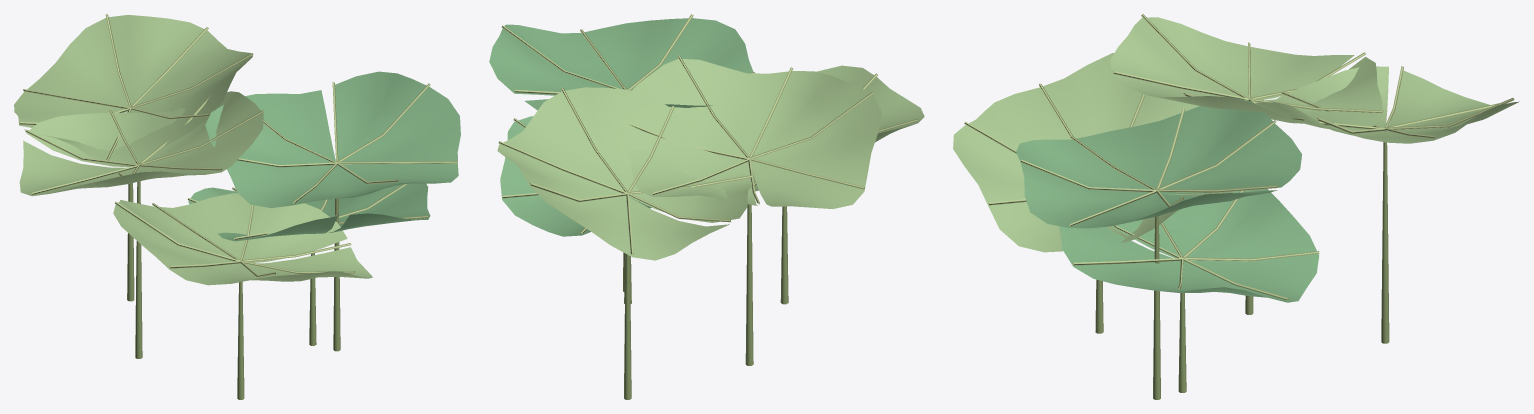
The model's file is study_lotus_1.glb.
The picture shows the model from 3 angles, left to right: view 1: azimuth 30°, elevation 25°; view 2: azimuth 150°, elevation 25°; view 3: azimuth 270°, elevation 25°; orthographic projection. The views are drawn at different scales.
Visible parts, largest first — view 1: study_lotus_1_LakeLeafLight, study_lotus_1_LakeLeaf, study_lotus_1_LakeVein, study_lotus_1_LakeReed; view 2: study_lotus_1_LakeLeafLight, study_lotus_1_LakeLeaf, study_lotus_1_LakeVein, study_lotus_1_LakeReed; view 3: study_lotus_1_LakeLeaf, study_lotus_1_LakeLeafLight, study_lotus_1_LakeVein, study_lotus_1_LakeReed.
Part boxes in pixels (bbox=[...]): study_lotus_1_LakeLeafLight: bbox=[14, 15, 372, 285]; study_lotus_1_LakeLeaf: bbox=[188, 71, 460, 241]; study_lotus_1_LakeVein: bbox=[18, 14, 457, 277]; study_lotus_1_LakeReed: bbox=[127, 166, 340, 399]; study_lotus_1_LakeLeafLight: bbox=[497, 59, 924, 260]; study_lotus_1_LakeLeaf: bbox=[489, 18, 753, 236]; study_lotus_1_LakeVein: bbox=[498, 14, 918, 255]; study_lotus_1_LakeReed: bbox=[623, 204, 788, 399]; study_lotus_1_LakeLeaf: bbox=[1016, 98, 1319, 302]; study_lotus_1_LakeLeafLight: bbox=[953, 17, 1519, 252]; study_lotus_1_LakeVein: bbox=[964, 14, 1514, 300]; study_lotus_1_LakeReed: bbox=[1095, 131, 1389, 399].
Size of the model in its own units: 1.42 by 0.8912 by 1.67.
